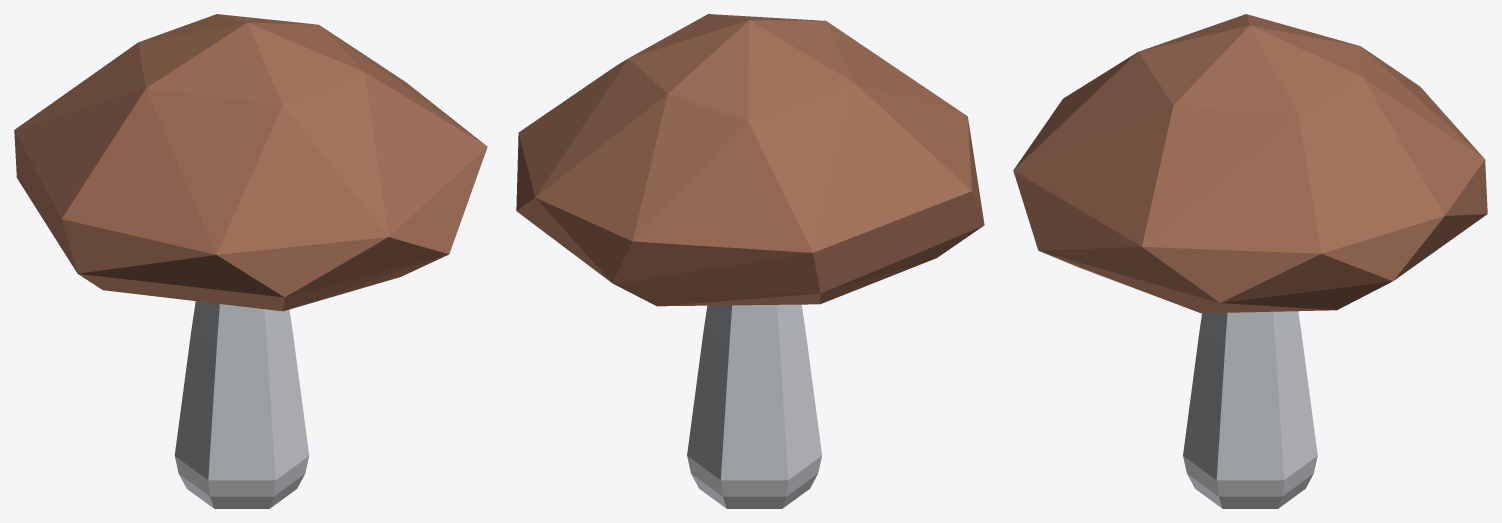
The model's file is Mushroom_1.glb.
The picture shows the model from 3 angles, left to right: view 1: azimuth 30°, elevation 25°; view 2: azimuth 150°, elevation 25°; view 3: azimuth 270°, elevation 25°; orthographic projection.
Parts seen in each view (by area): view 1: Mushroom_1; view 2: Mushroom_1; view 3: Mushroom_1.
Part boxes in pixels (box(x1,y1,x2,y2)): Mushroom_1: box(14, 14, 487, 508); Mushroom_1: box(516, 14, 984, 508); Mushroom_1: box(1013, 14, 1487, 508).
Bounding box in the file's own units: 0.1651 × 0.1801 × 0.1662.
1 material, 1 textured.
